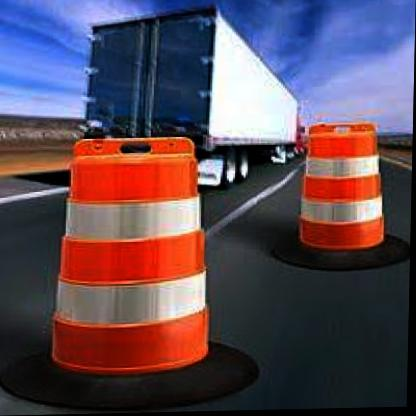obstacle: (58, 139, 220, 376), (301, 124, 395, 248)
